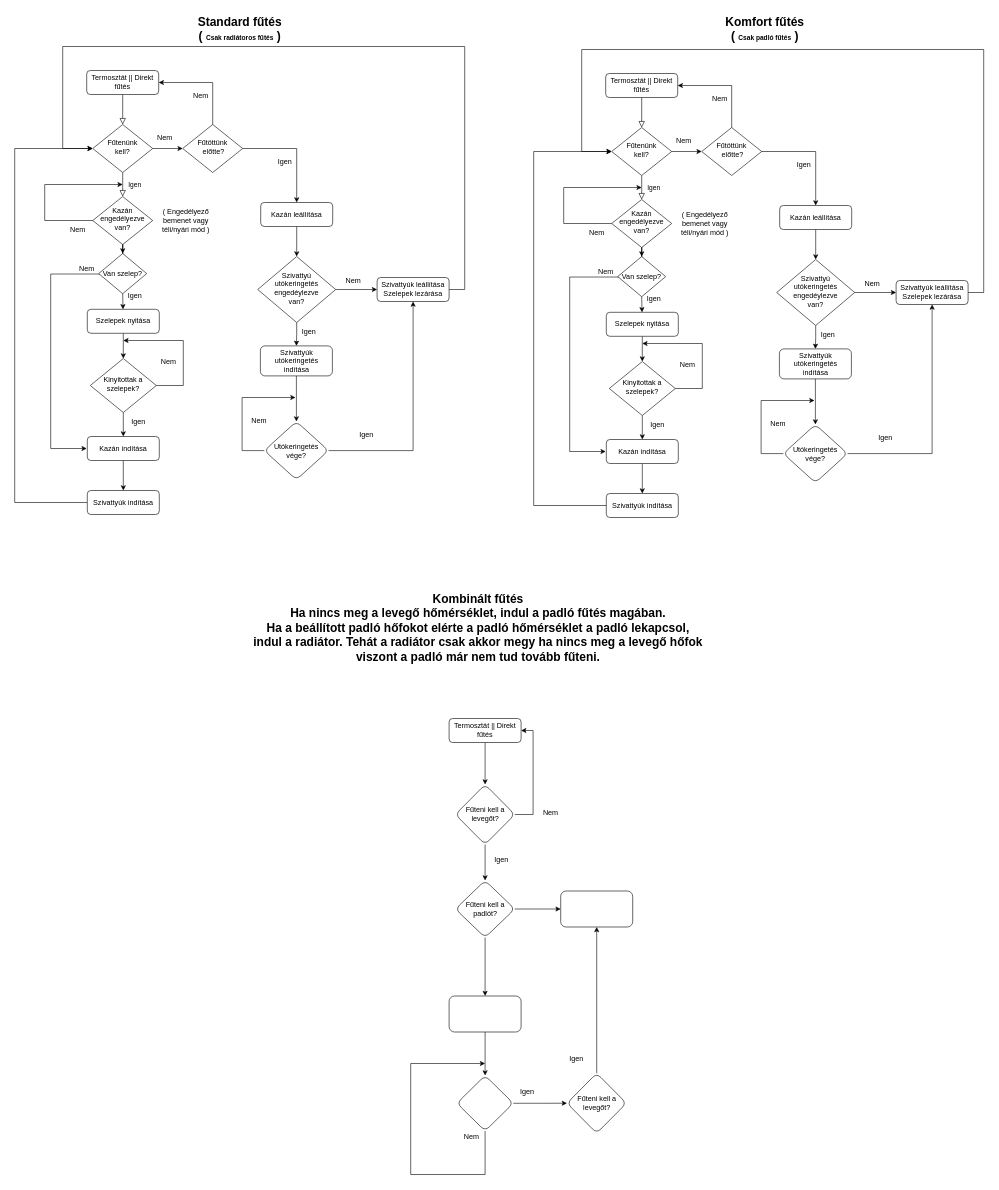
The diagram is 999 pixels wide and 1190 high, and some of its shapes have lost their labels. The shapes that lost their labels are listed below. From the top down, each one's box as (x1, y1, x2, y2) in pixels, then its label:
(560, 890, 633, 927): Radiátorok indítása
(448, 995, 521, 1032): Padló fűtés indítása
(456, 1075, 513, 1131): Padló hőfog megvan?
